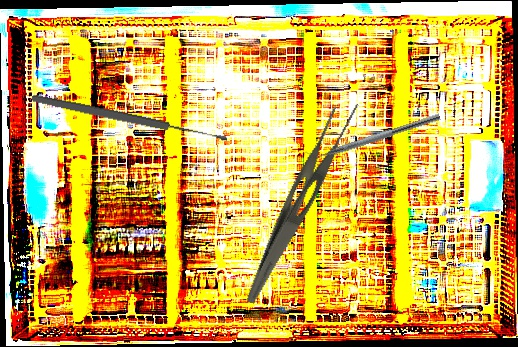Chopper: (304, 104, 441, 166)
Dressing Forceps: (244, 92, 362, 314)
Surgical Spoon: (31, 92, 228, 145)
